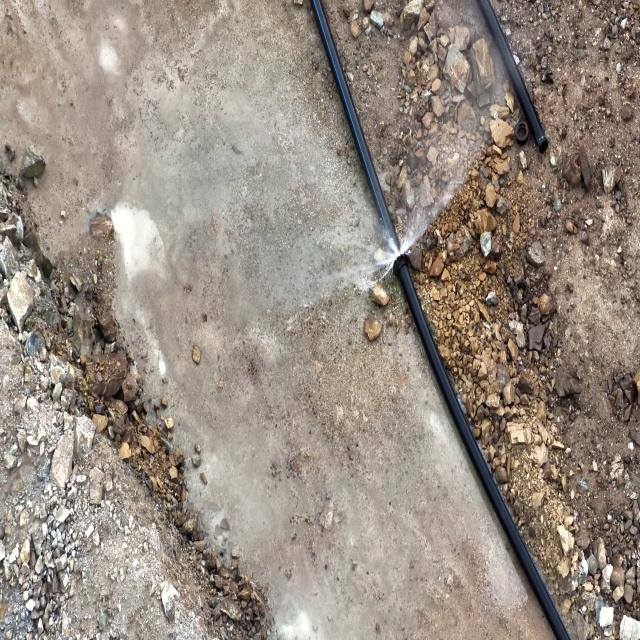leak: (344, 142, 471, 297)
